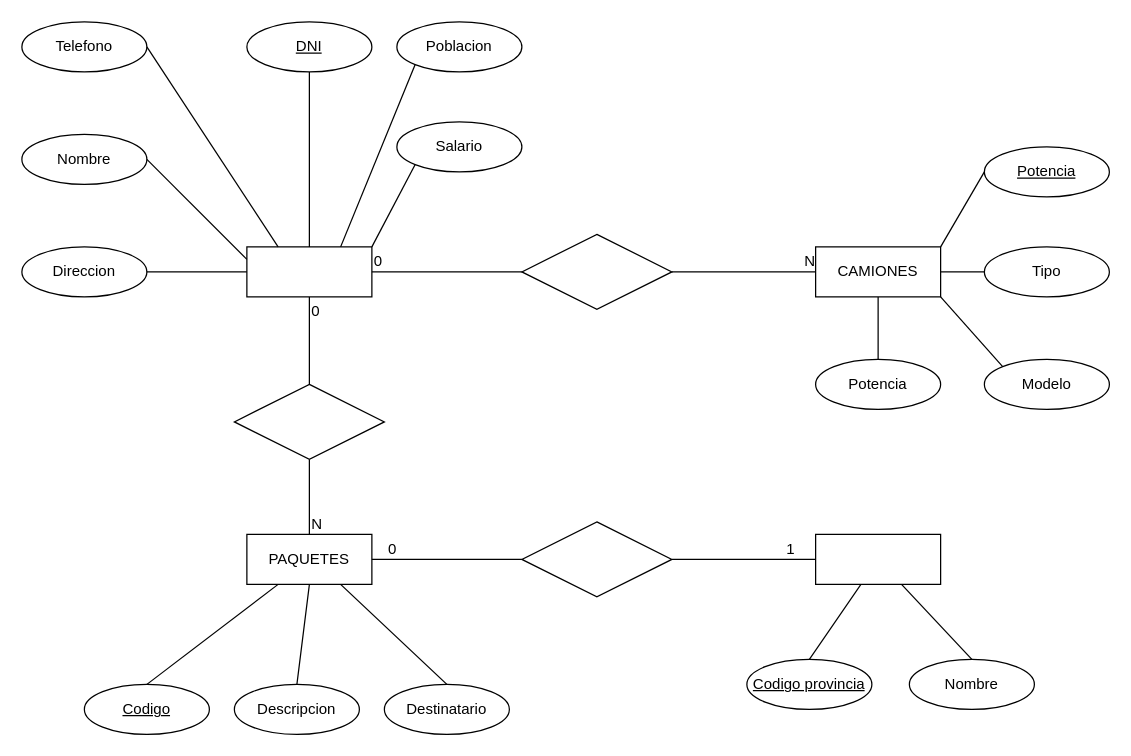
Image size: 1131x756. Some labels were removed from this diagram. The centre of each missing label's shape, as x and y in pixels:
"CAMIONEROS" goes at (x=309, y=271).
"Conduce" goes at (x=596, y=271).
"Distribuye" goes at (x=308, y=421).
"Llegan" goes at (x=596, y=559).
"PROVINCIAS" goes at (x=877, y=558).
